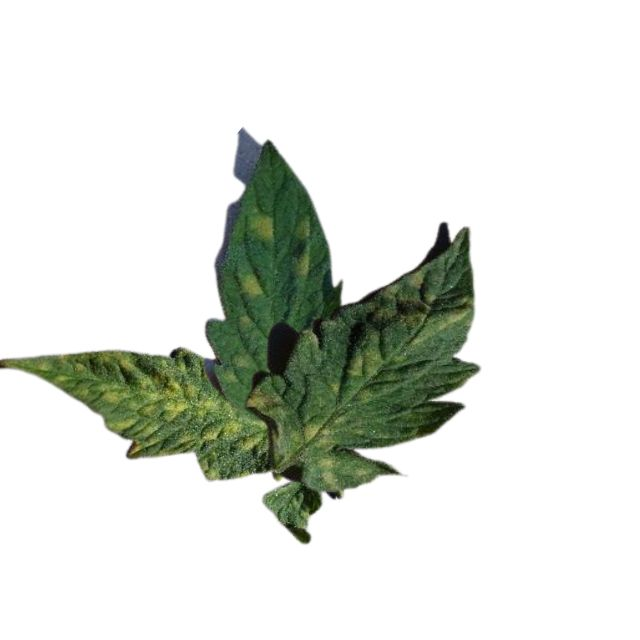Leaf_Mold: (12, 352, 269, 481), (361, 268, 472, 346), (299, 422, 343, 497), (346, 346, 381, 403), (289, 214, 315, 281), (239, 264, 267, 298), (250, 212, 273, 243)
